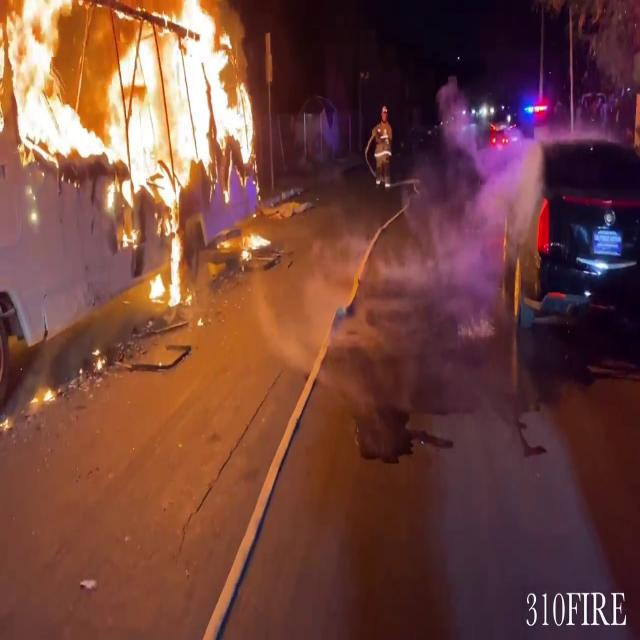Fire: (0, 0, 260, 297)
Smoke: (409, 108, 548, 313)
